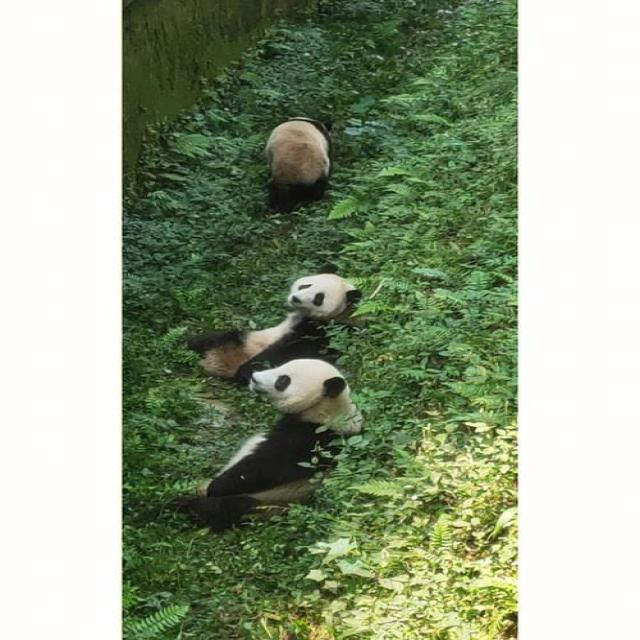panda: (176, 254, 386, 526), (249, 95, 348, 214)
